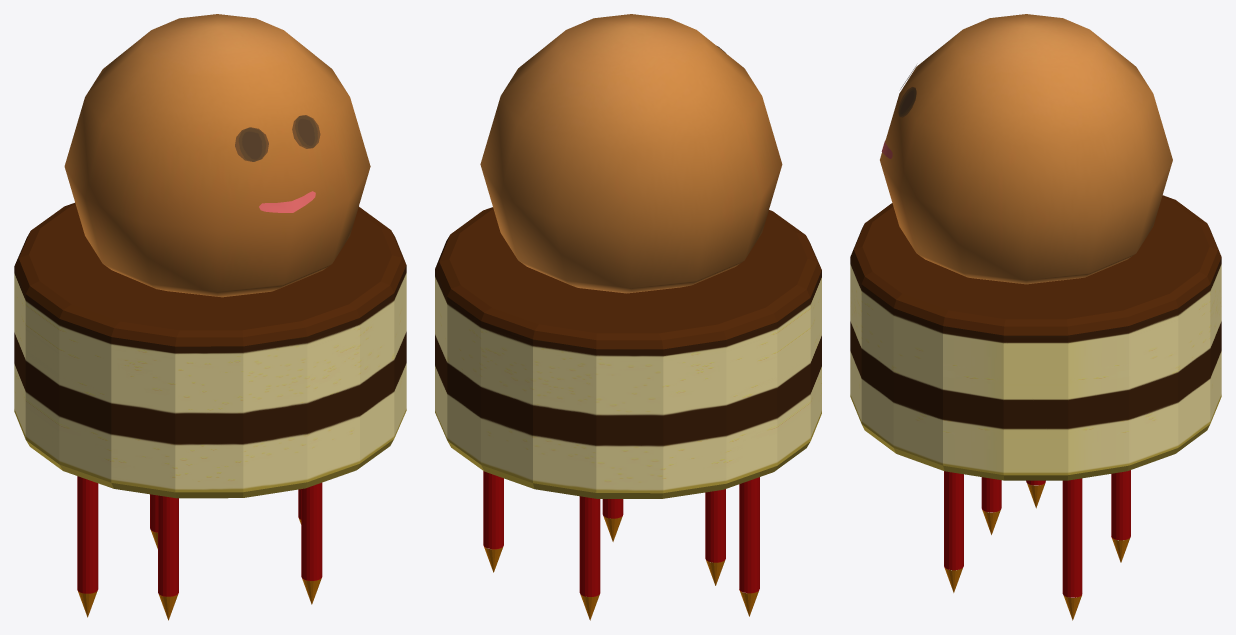
The model's file is 搭蛋糕的小饅頭餅乾.fbx.
The picture shows the model from 3 angles, left to right: view 1: azimuth 30°, elevation 25°; view 2: azimuth 150°, elevation 25°; view 3: azimuth 270°, elevation 25°; orthographic projection. The views are drawn at different scales.
Parts seen in each view (by area): view 1: 圓柱體, 圓柱體.006, 圓柱體.001, 圓柱體.002, 圓柱體.004, 眼睛, 眼睛.001, 嘴巴; view 2: 圓柱體, 圓柱體.006, 圓柱體.001, 圓柱體.003, 圓柱體.005, 圓柱體.002; view 3: 圓柱體, 圓柱體.006, 圓柱體.005, 圓柱體.004, 圓柱體.003, 圓柱體.002.
Boxes of the visible parts, x1,y1,x2,y2 form: 圓柱體: (14, 203, 406, 498); 圓柱體.006: (64, 14, 370, 297); 圓柱體.001: (77, 476, 98, 593); 圓柱體.002: (158, 495, 178, 596); 圓柱體.004: (301, 482, 322, 580); 眼睛: (235, 127, 268, 161); 眼睛.001: (292, 115, 320, 148); 嘴巴: (259, 191, 315, 212); 圓柱體: (435, 207, 821, 498); 圓柱體.006: (480, 14, 782, 293); 圓柱體.001: (739, 477, 759, 593); 圓柱體.003: (579, 496, 600, 596); 圓柱體.005: (483, 471, 503, 548); 圓柱體.002: (705, 489, 725, 562); 圓柱體: (850, 195, 1221, 480); 圓柱體.006: (880, 14, 1172, 284); 圓柱體.005: (1062, 478, 1082, 597); 圓柱體.004: (944, 471, 963, 570); 圓柱體.003: (1111, 470, 1130, 540); 圓柱體.002: (981, 477, 1001, 512).
Size of the model in its own units: 15 by 15 by 24.06.
Materials: 15 (15 with a texture image).
